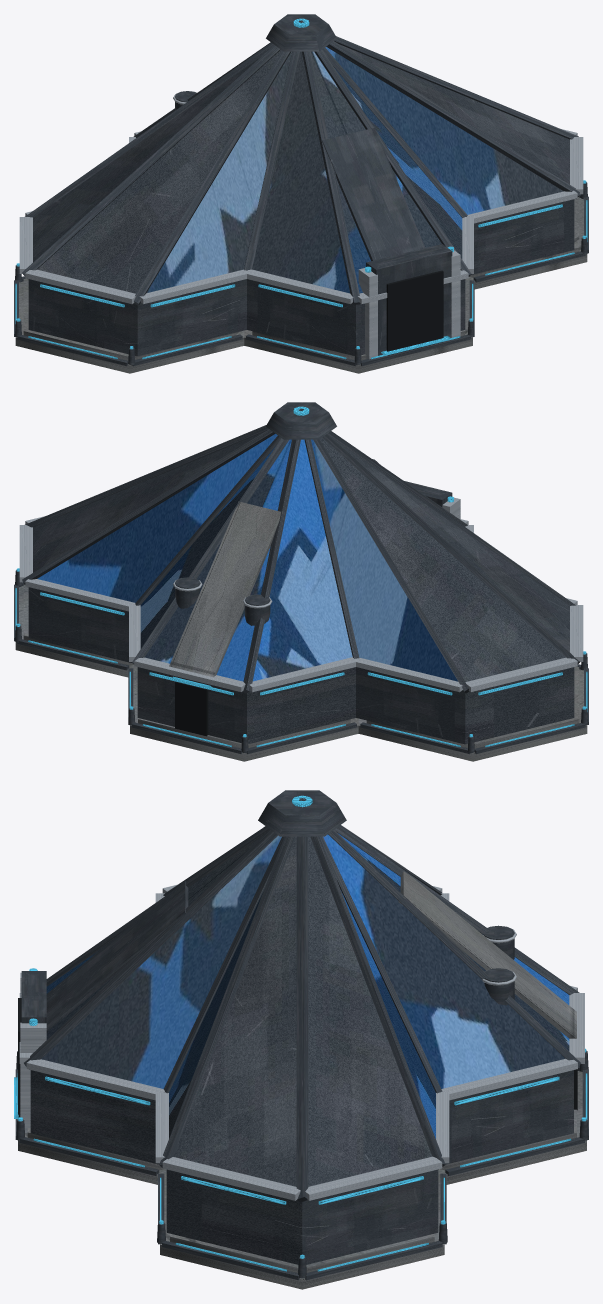
The model's file is apex-hall.glb.
The picture shows the model from 3 angles, top to bottom: view 1: azimuth 30°, elevation 25°; view 2: azimuth 150°, elevation 25°; view 3: azimuth 270°, elevation 25°; orthographic projection. The views are drawn at different scales.
Visible parts, largest first — view 1: edge_trim_w_0, roof_w, eave_0, base_plate_w, entry_void, edge_glow_w_0; view 2: edge_trim_w_0, roof_w, base_plate_w, eave_0, edge_glow_w_0, entry_void; view 3: edge_trim_w_0, roof_w, base_plate_w, eave_0, edge_glow_w_0.
Part boxes in pixels (x1,y1,x2,y2): edge_trim_w_0: (14, 14, 588, 366); roof_w: (146, 47, 563, 293); eave_0: (19, 92, 583, 359); base_plate_w: (15, 65, 587, 373); entry_void: (386, 270, 443, 355); edge_glow_w_0: (15, 18, 587, 359); edge_trim_w_0: (14, 402, 588, 754); roof_w: (37, 434, 457, 681); base_plate_w: (15, 501, 587, 761); eave_0: (19, 497, 583, 692); edge_glow_w_0: (15, 406, 587, 747); entry_void: (175, 681, 208, 736); edge_trim_w_0: (15, 790, 588, 1280); roof_w: (41, 833, 569, 1138); base_plate_w: (18, 871, 586, 1289); eave_0: (19, 884, 584, 1200); edge_glow_w_0: (14, 795, 587, 1271).
Bounding box in the file's own units: 36.04 × 15.36 × 25.2.
6 materials, 5 textured.
